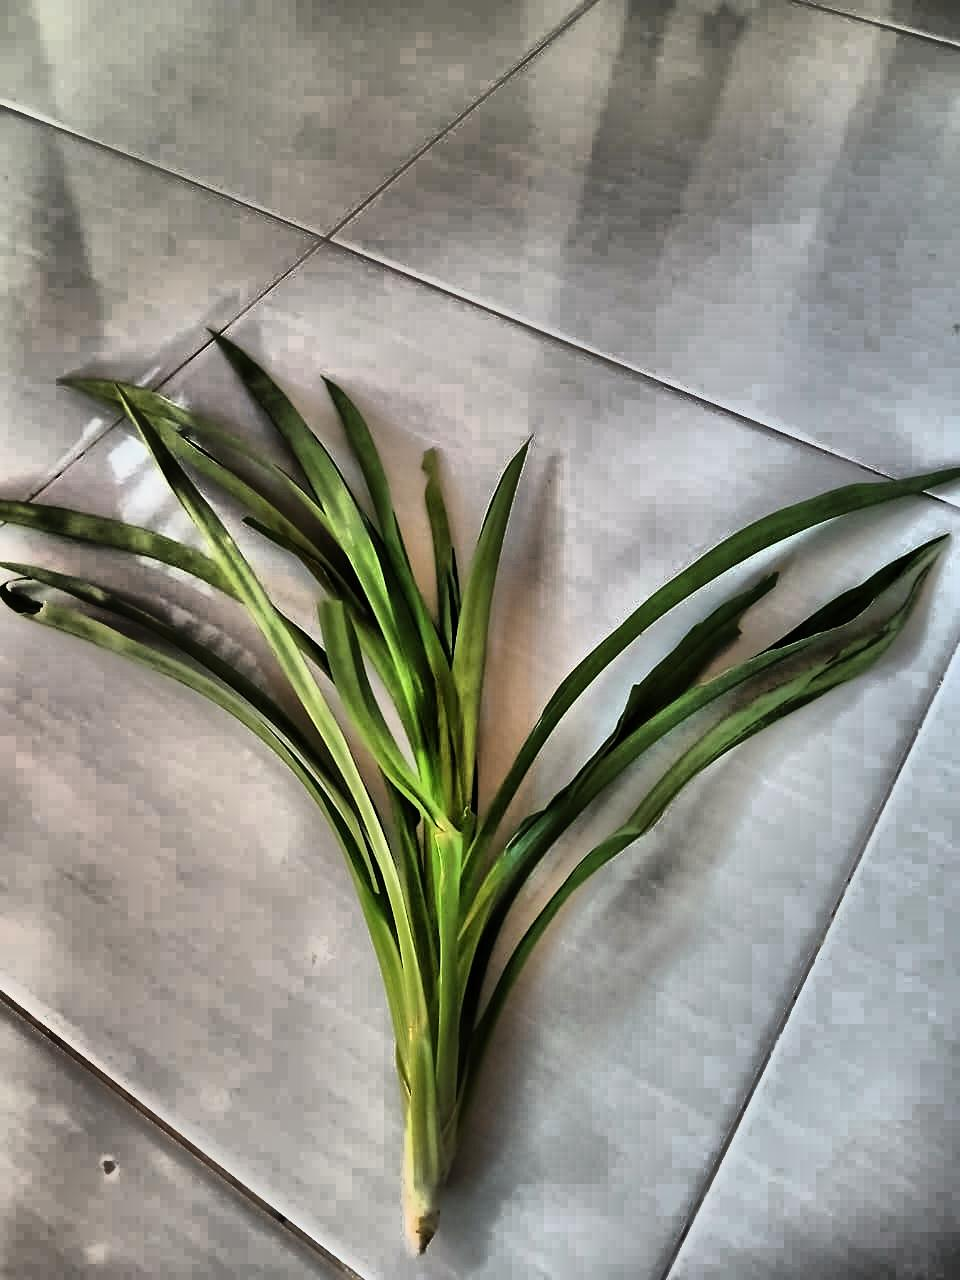daun pandan: (0, 334, 959, 1252)
